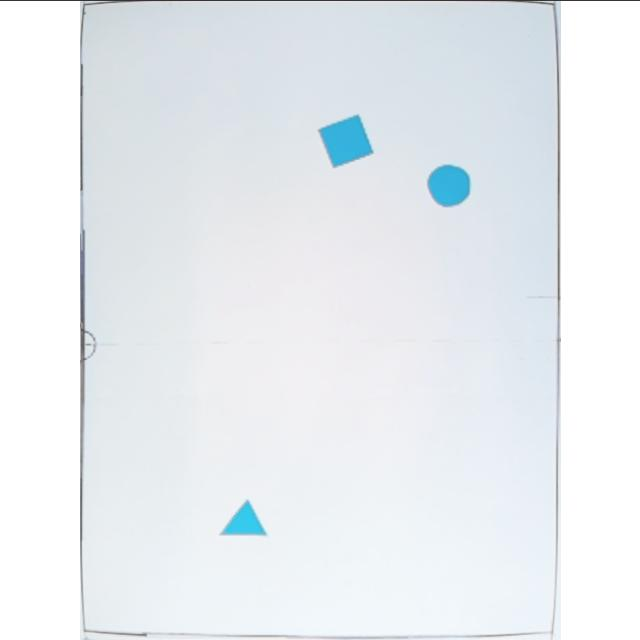blueCircle: (422, 162, 473, 208)
blueSquare: (315, 110, 373, 168)
blueTriangle: (218, 498, 268, 538)
